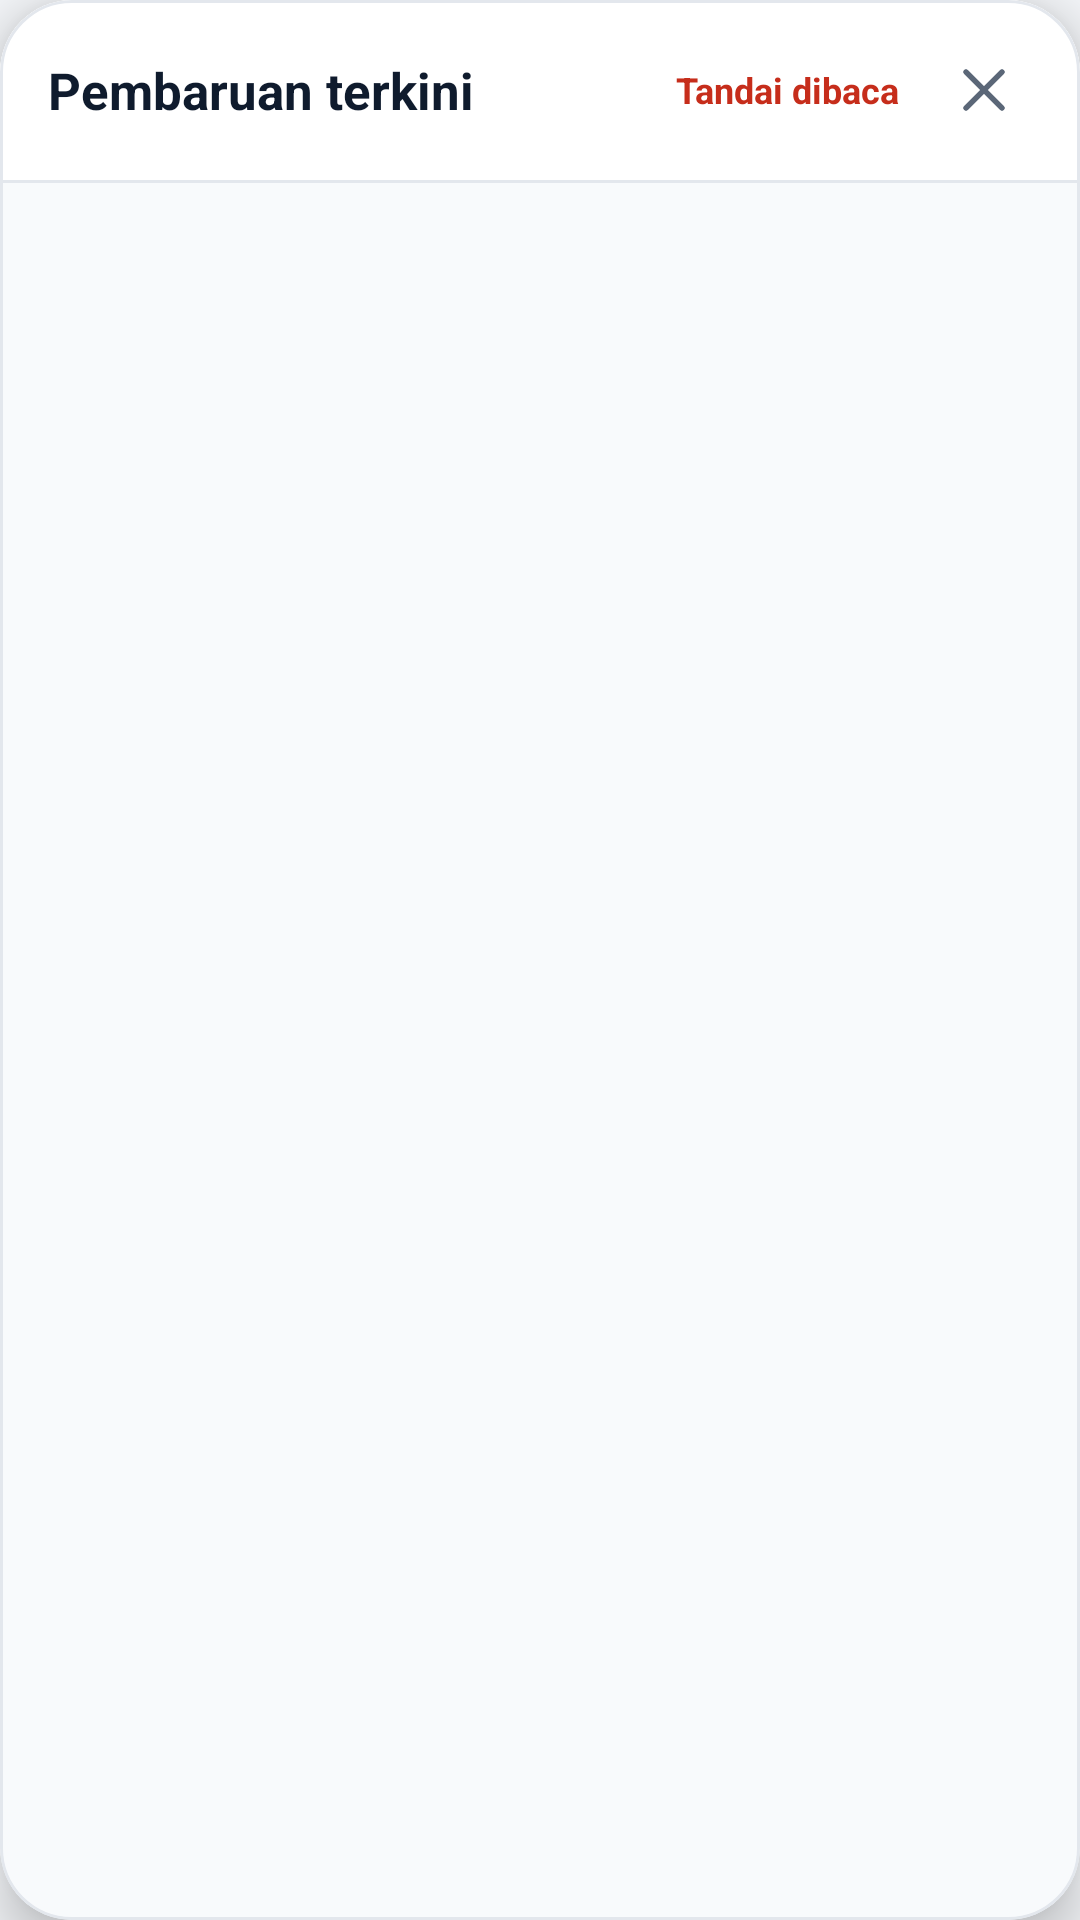

Where to tap for icons on this 1080px x 1920px app screen, as (x=x, y=y):
Tutup notifikasi: (x=984, y=90)
